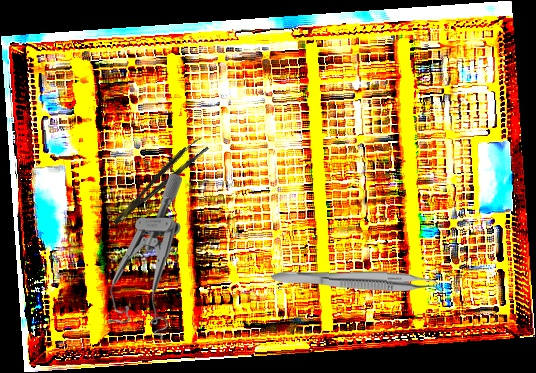Speculum: (108, 171, 182, 342)
Tissue Forceps: (106, 135, 210, 227), (270, 269, 446, 296)
